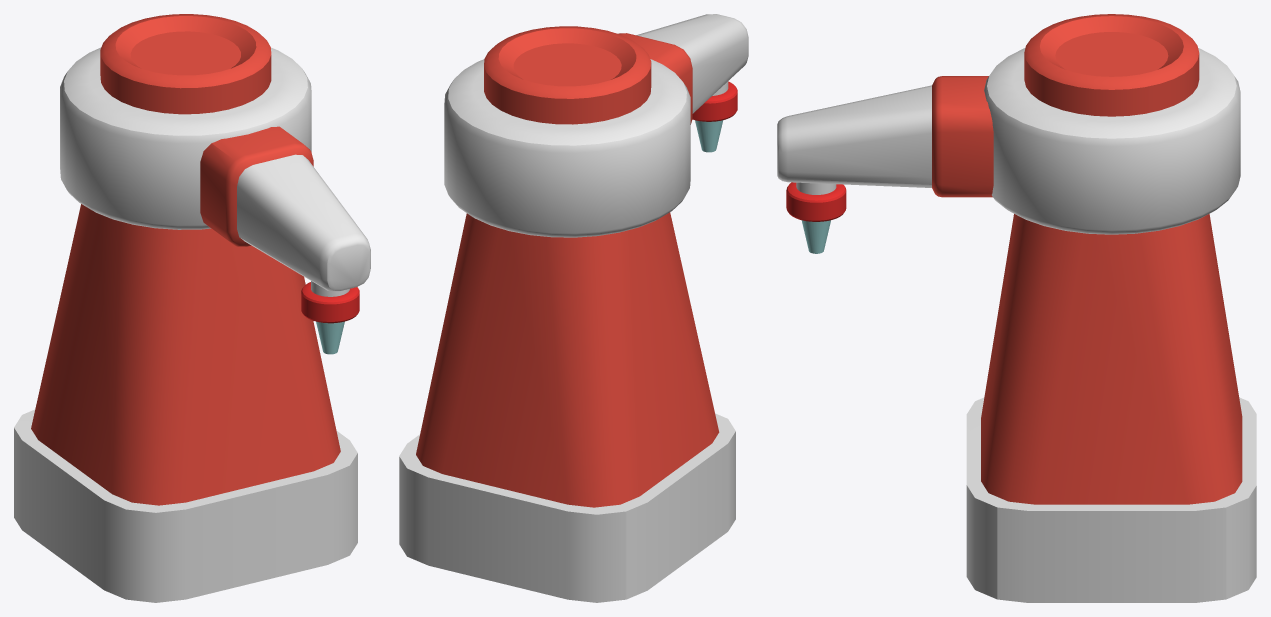
The model's file is mayW.fbx.
3 views of the same model, side by side, from view 1: azimuth 30°, elevation 25°; view 2: azimuth 150°, elevation 25°; view 3: azimuth 270°, elevation 25° (orthographic). The views are drawn at different scales.
Parts seen in each view (by area): view 1: Cylinder.003; view 2: Cylinder.003; view 3: Cylinder.003.
Part boxes in pixels (box(x1,y1,x2,y2)): Cylinder.003: box(14, 14, 370, 602); Cylinder.003: box(399, 14, 748, 602); Cylinder.003: box(777, 14, 1256, 602).
Bounding box in the file's own units: 168 × 317 × 278.
